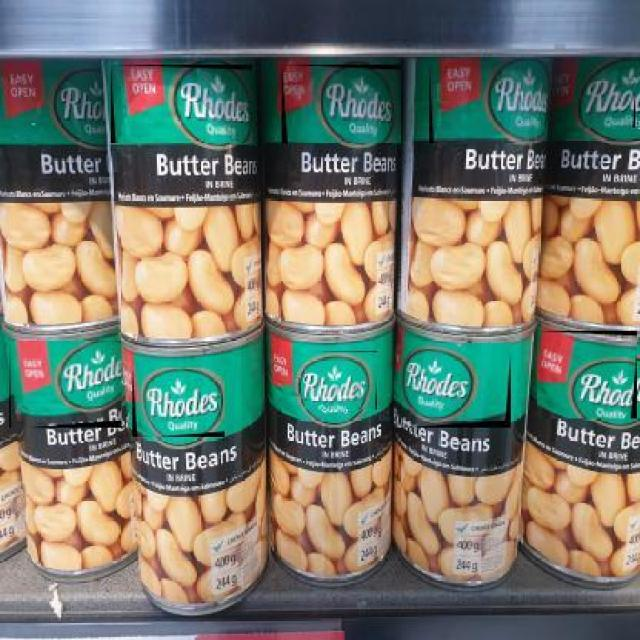Beans: (111, 64, 254, 144), (394, 343, 512, 429), (10, 341, 124, 430), (282, 64, 402, 144), (429, 64, 546, 144), (537, 331, 638, 420), (132, 368, 226, 438), (304, 351, 378, 411), (572, 69, 638, 129)
